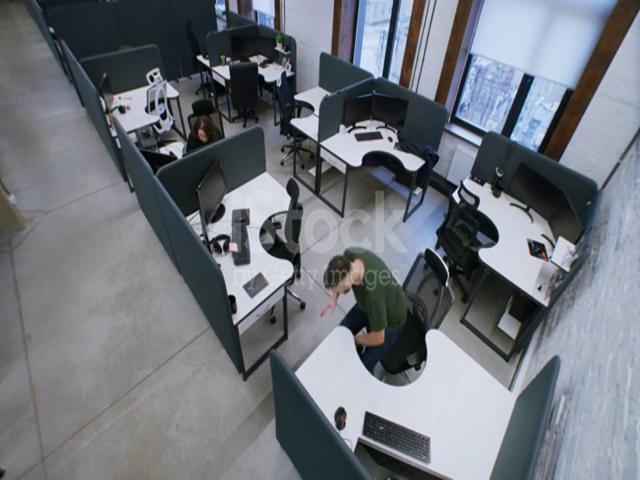empty chair: (115, 54, 188, 150), (210, 46, 280, 120), (268, 86, 310, 188), (447, 170, 480, 282), (280, 184, 308, 298), (173, 2, 202, 67)
occupiedchair: (322, 234, 452, 382), (177, 105, 226, 169)
